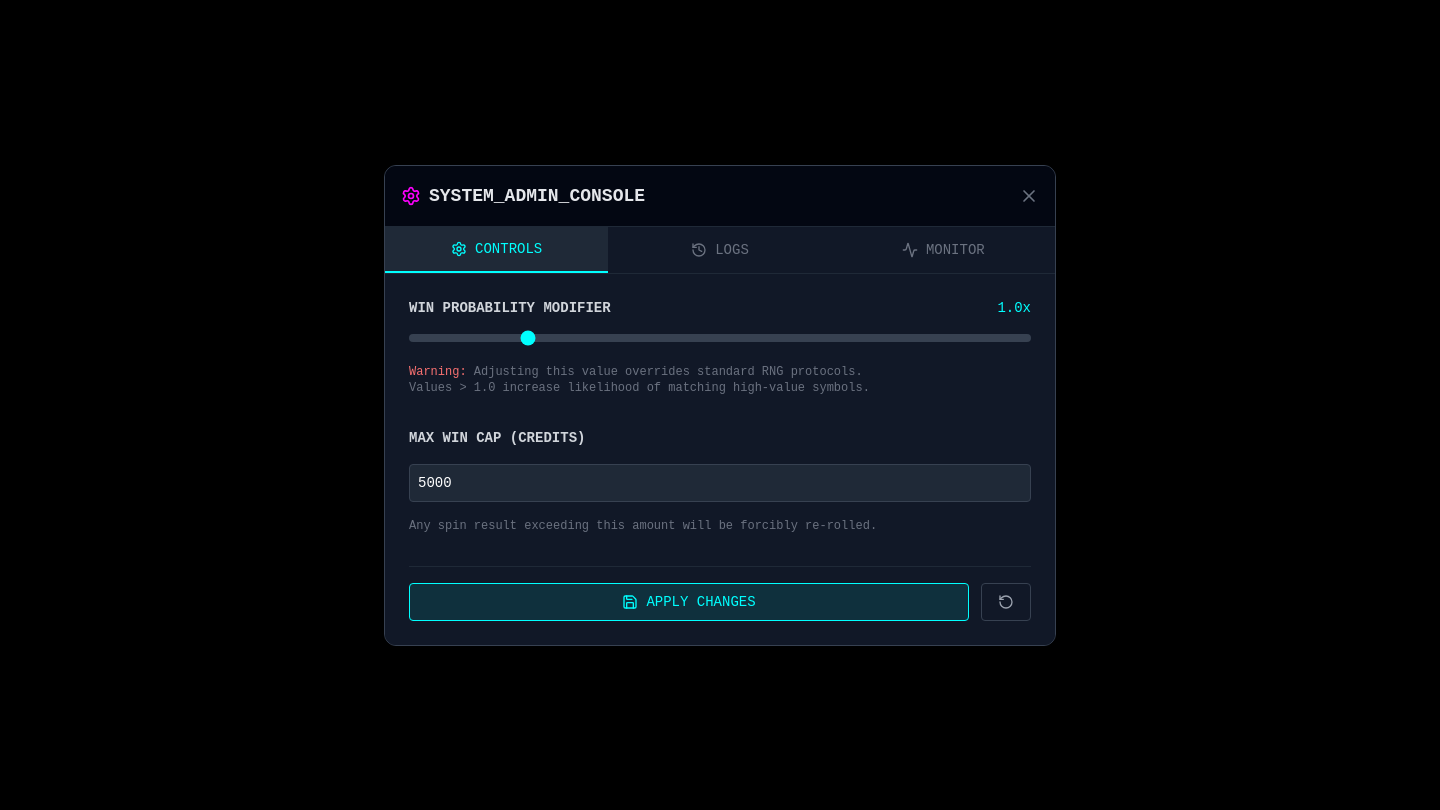
Test: AdminPanel › displays history items in the logs tab
Switch to logs tab
Click the button "LOGS" at (720, 250), box [608, 226, 832, 272]
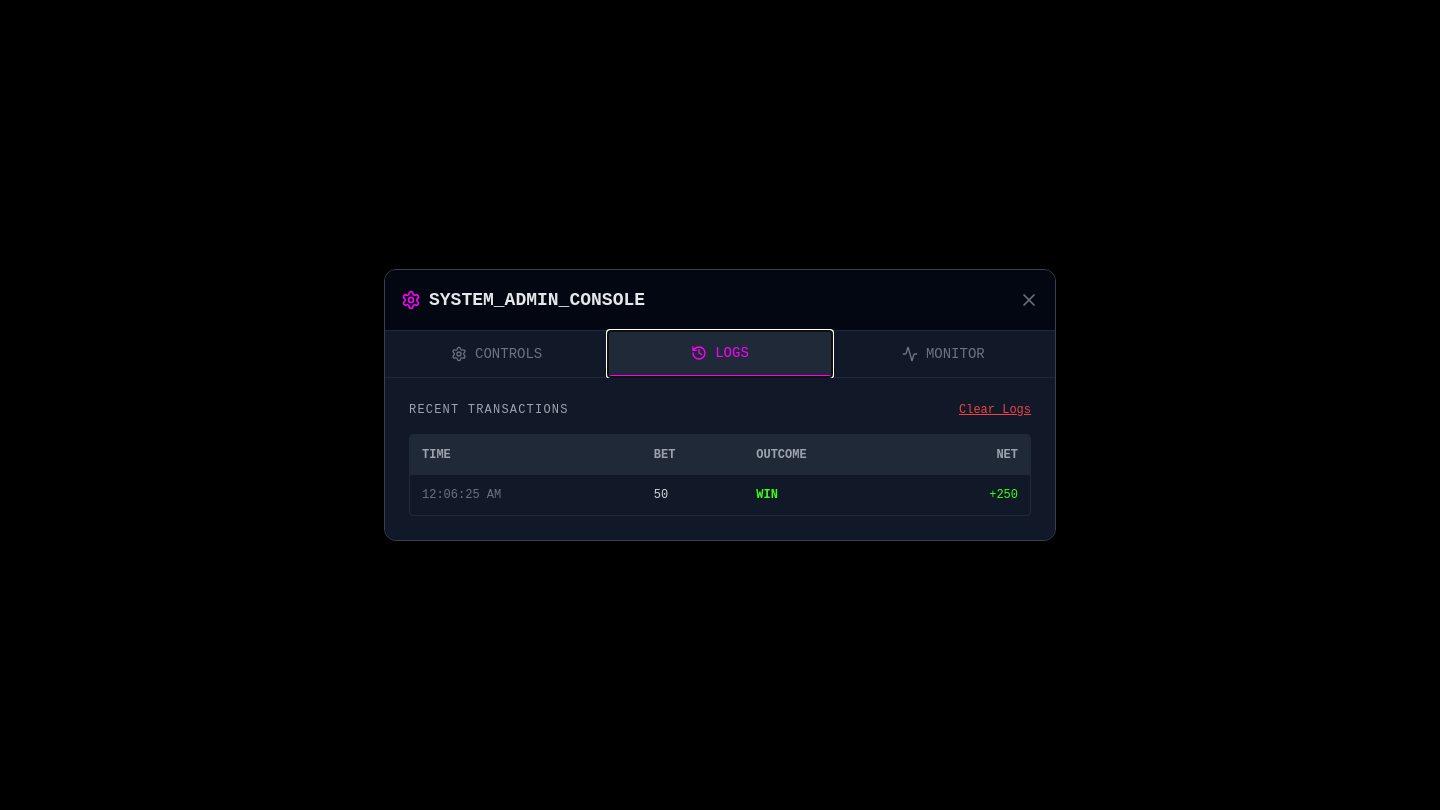
Check: the text "WIN" is shown, box [744, 475, 911, 515]
Check: the text "50" is shown, box [642, 475, 744, 515]
Check: the text "+250" is shown, box [911, 475, 1030, 515]
